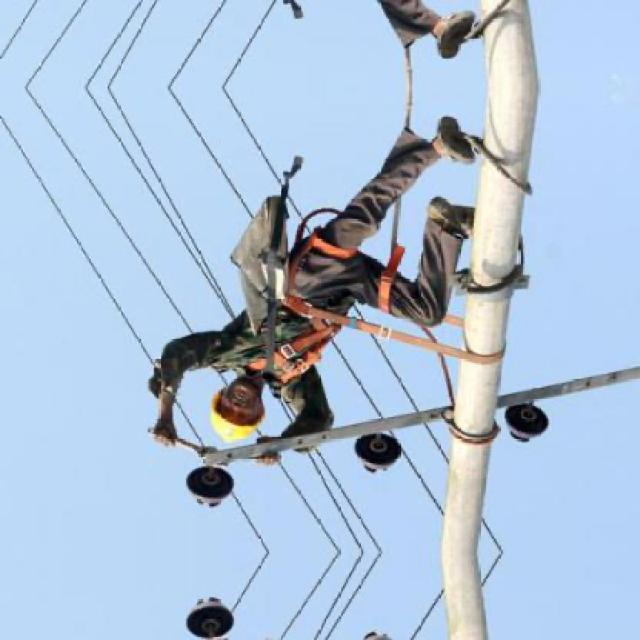con casco: (143, 365, 307, 464)
